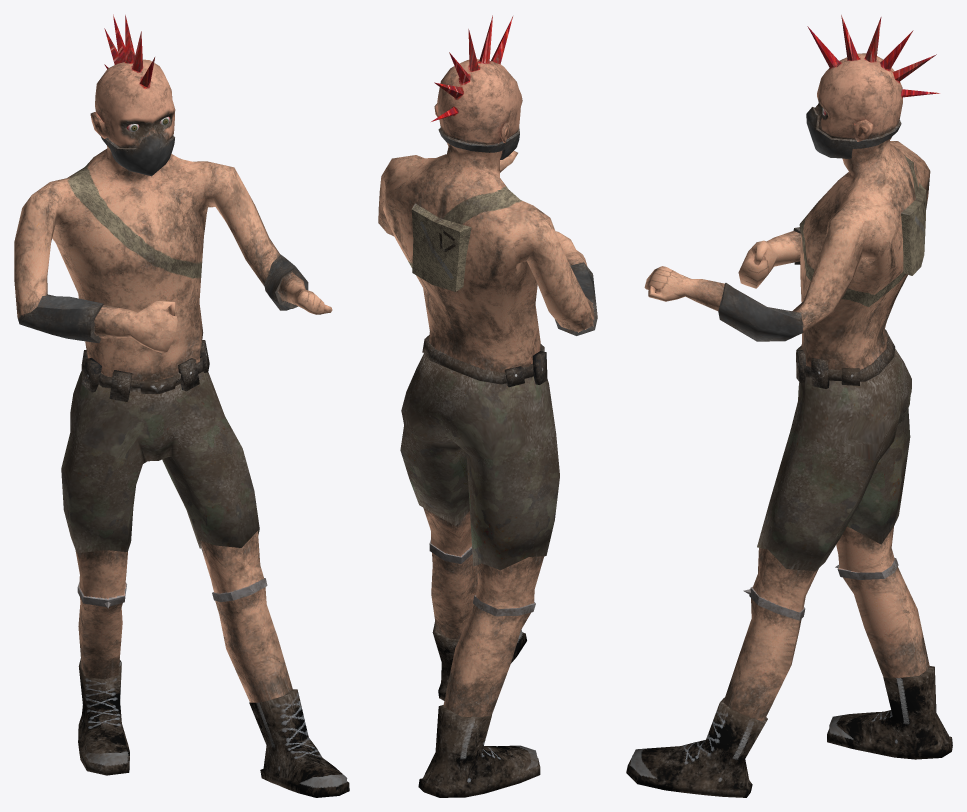
Rendered from Anim_disparar_ametralladora_npc2.0031.obj.
3 views of the same model, side by side, from view 1: azimuth 30°, elevation 25°; view 2: azimuth 150°, elevation 25°; view 3: azimuth 270°, elevation 25° (orthographic).
Visible parts, largest first — view 1: polySurface1; view 2: polySurface1; view 3: polySurface1.
Part boxes in pixels (<box>): polySurface1: <box>14,14,349,797</box>; polySurface1: <box>378,15,597,797</box>; polySurface1: <box>626,15,952,797</box>.
Bounding box in the file's own units: 3.36 × 10.02 × 4.02.
